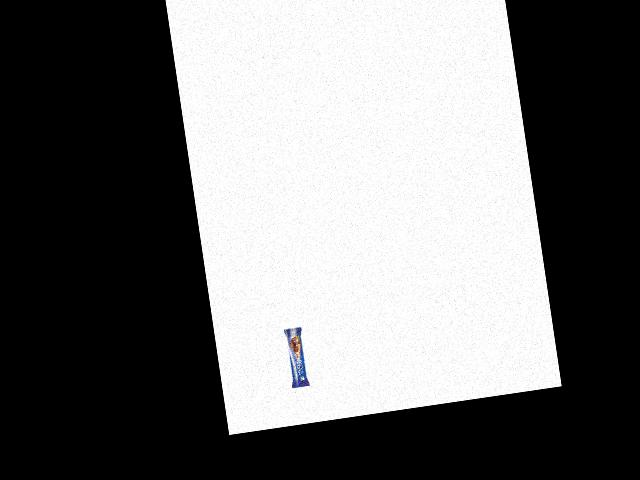chocolate: (281, 318, 315, 389)
